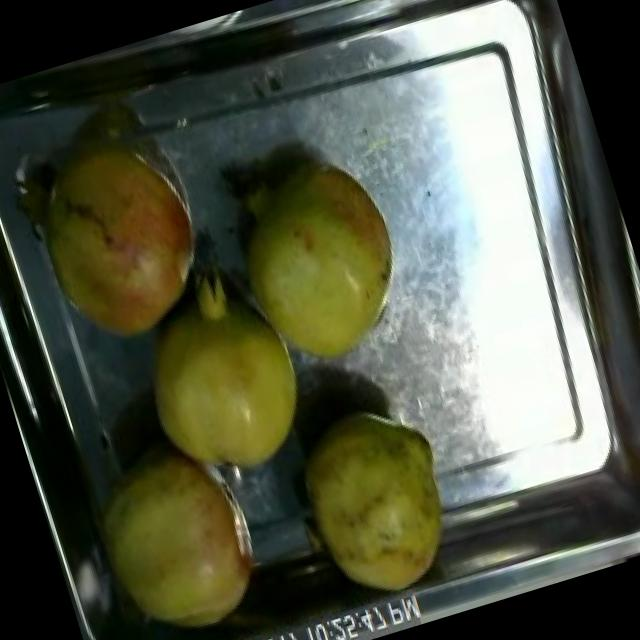fruit: (204, 134, 434, 393), (110, 247, 334, 512), (12, 114, 234, 366), (276, 384, 474, 620), (73, 425, 285, 640)
